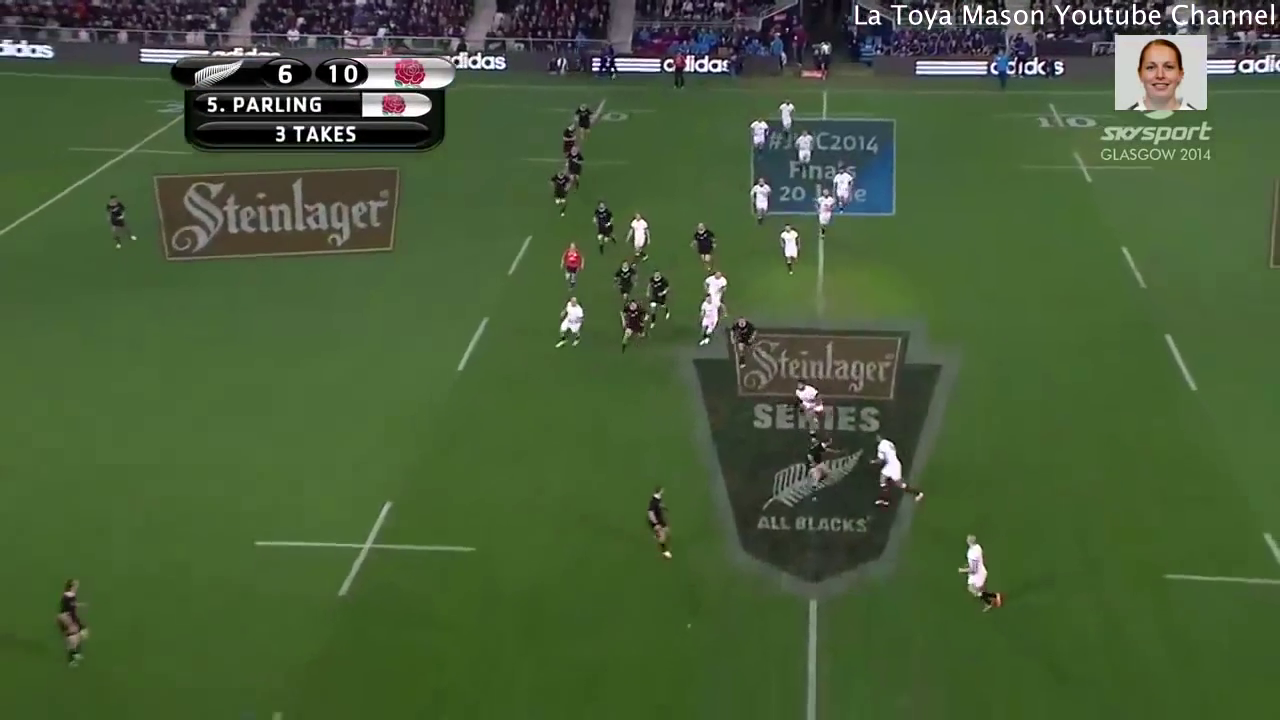10_metre: (248, 494, 483, 603), (1155, 526, 1280, 592), (1015, 150, 1159, 190), (517, 143, 636, 181), (537, 96, 662, 132), (987, 101, 1117, 133)
player: (865, 432, 925, 509), (953, 532, 1006, 616), (637, 479, 684, 568), (53, 574, 95, 670), (98, 192, 140, 252), (802, 429, 837, 501), (792, 376, 835, 432), (552, 292, 588, 357), (695, 293, 731, 347), (728, 314, 760, 371), (618, 299, 650, 355), (643, 270, 671, 330), (590, 200, 618, 258), (687, 222, 717, 272), (558, 240, 585, 294), (811, 186, 834, 245), (749, 174, 774, 227), (625, 213, 650, 266), (829, 169, 855, 216), (777, 224, 800, 276), (793, 127, 817, 173), (613, 261, 638, 303), (548, 170, 569, 218), (565, 146, 585, 194), (573, 104, 595, 142), (702, 270, 728, 302), (747, 116, 766, 157), (777, 100, 796, 137), (560, 122, 579, 159)
